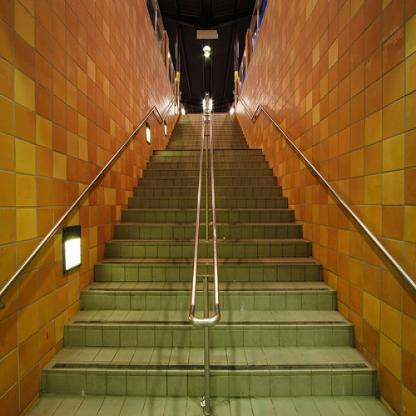stairs: (98, 266, 183, 409)
